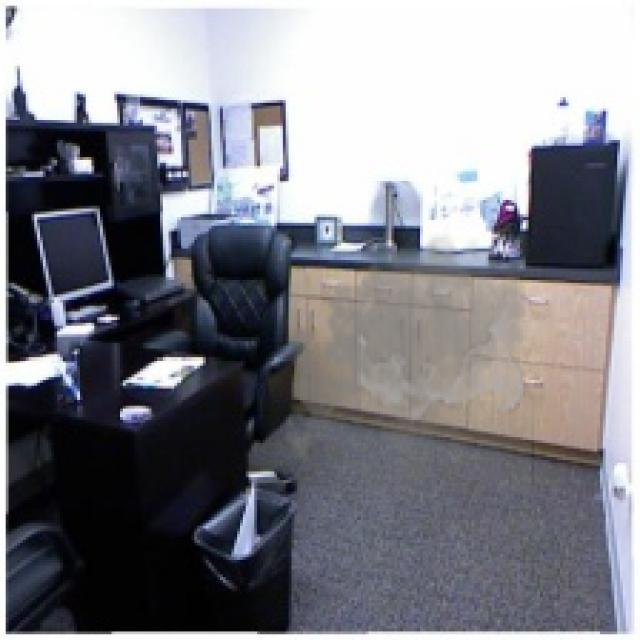smoke: (277, 223, 534, 494)
